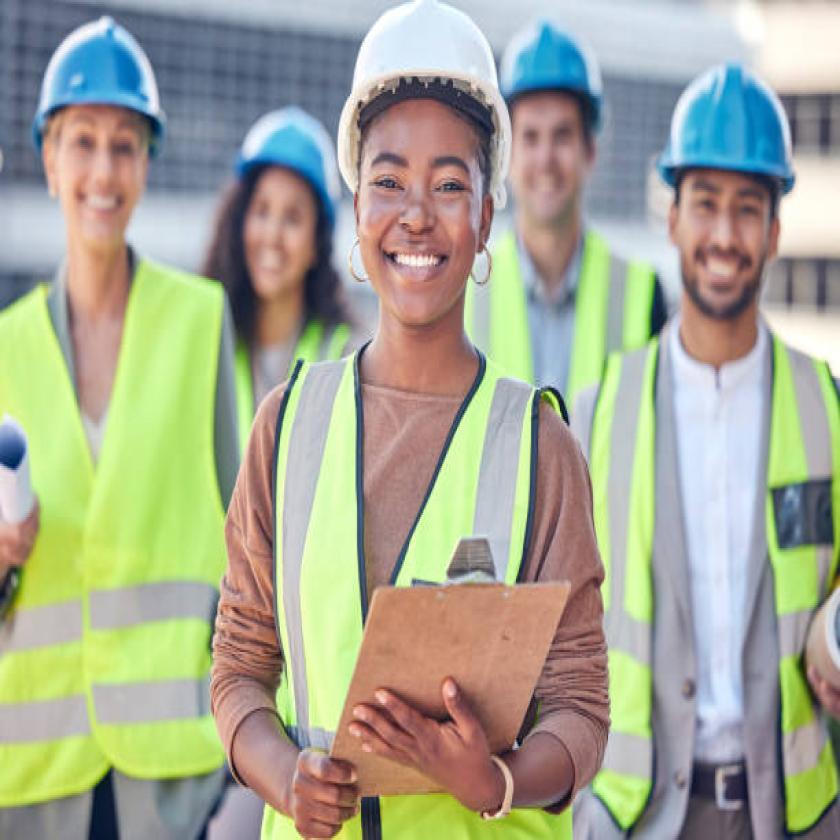Con_casco: (336, 0, 513, 353), (29, 0, 189, 272), (654, 52, 800, 312), (492, 13, 618, 239)
